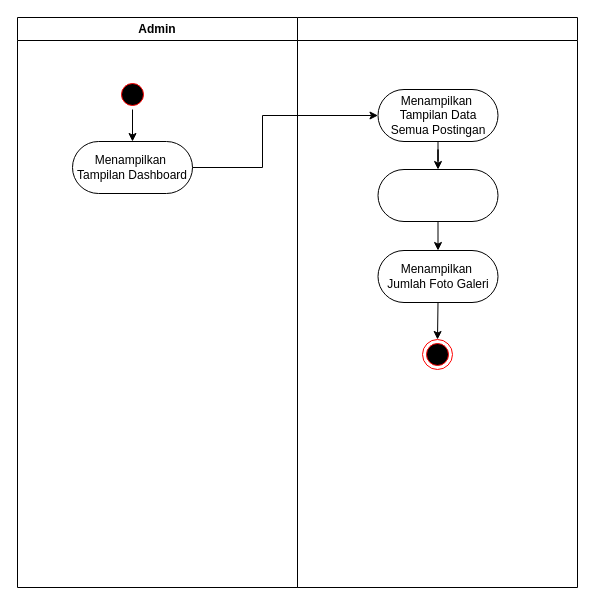
Image size: 595x605. Some labels were removed from this diagram. The box of each missing label's shape, as (x1, y1, x2, y2) in pixels:
Menampilkan Jumlah User: (377, 168, 498, 222)
Sistem: (296, 16, 578, 588)
